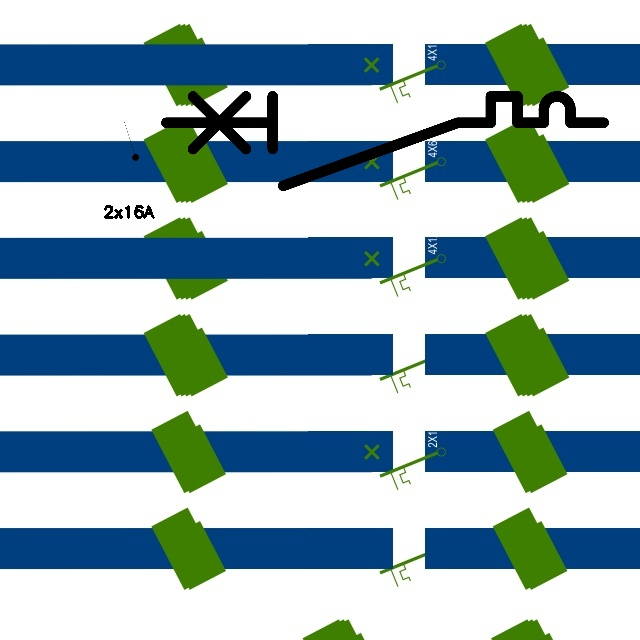interruptor_termomagnetico: (155, 85, 615, 197)
